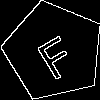F: (29, 26, 80, 82)
